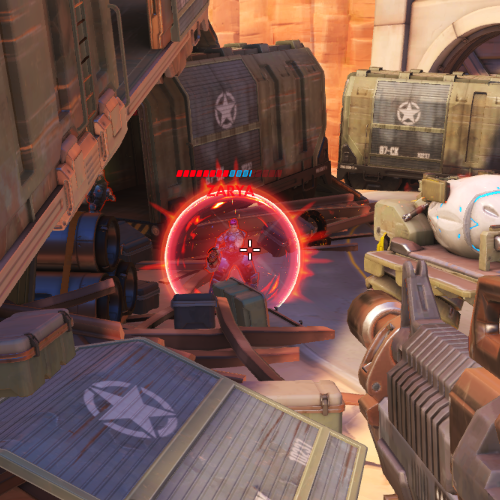hpbar: (175, 168, 283, 178)
